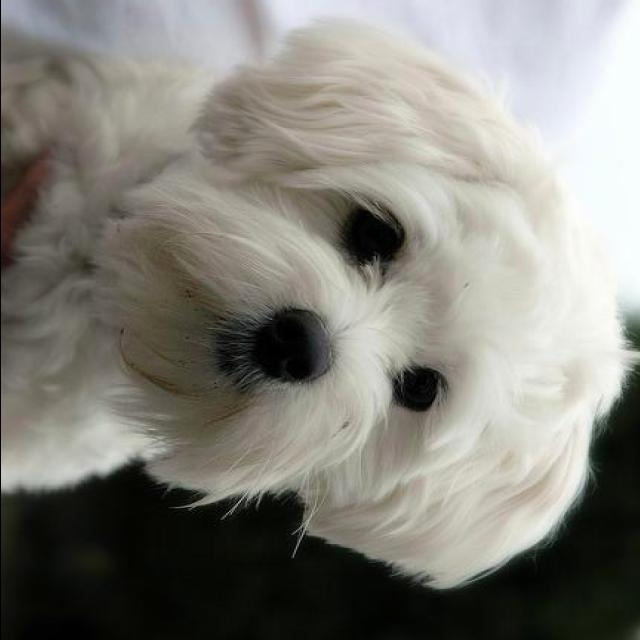maltese_dog: (3, 12, 640, 592)
